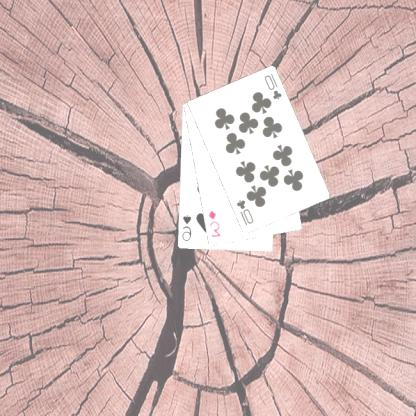10C: (263, 70, 285, 102), (235, 197, 257, 227)
3D: (207, 207, 224, 239)
9S: (180, 212, 194, 242)
